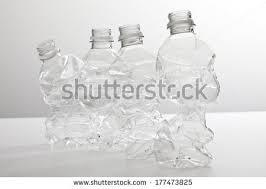Plastic bottle: (144, 12, 224, 168), (109, 17, 154, 159), (32, 39, 90, 149), (83, 17, 125, 153)
